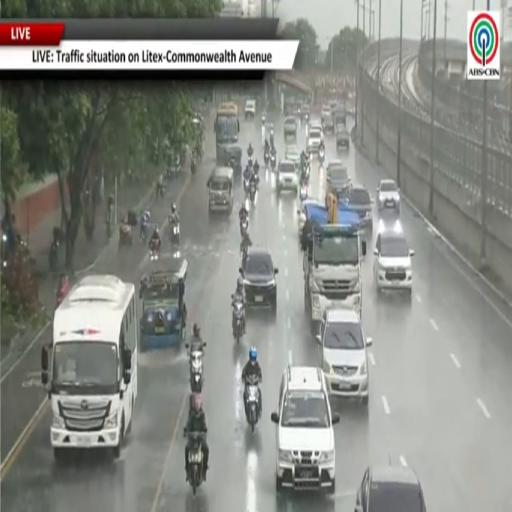bus: (42, 275, 138, 460)
car: (271, 366, 339, 493), (317, 308, 371, 405), (355, 466, 426, 511), (374, 222, 414, 295), (240, 247, 278, 311), (349, 185, 372, 229), (326, 159, 351, 198), (297, 199, 321, 236), (276, 160, 298, 194), (377, 180, 399, 213), (307, 128, 322, 153), (285, 144, 300, 168), (336, 124, 349, 150), (307, 121, 323, 140), (284, 117, 297, 139), (333, 105, 346, 125), (245, 100, 255, 120), (323, 116, 334, 134), (321, 105, 332, 123), (301, 104, 310, 120)
jeepney: (140, 254, 187, 350), (208, 167, 233, 213)
motorcycle: (185, 430, 206, 494), (245, 376, 260, 431), (190, 350, 203, 393), (233, 300, 244, 343), (119, 222, 133, 248), (168, 155, 181, 178), (49, 240, 58, 271), (170, 218, 179, 244), (149, 242, 160, 261), (240, 243, 247, 266), (240, 218, 248, 237), (141, 223, 148, 244), (300, 183, 308, 201), (249, 182, 256, 202), (318, 146, 325, 164), (156, 184, 165, 198), (230, 157, 239, 171), (106, 217, 111, 239), (270, 154, 276, 171), (191, 159, 196, 175), (244, 178, 249, 194), (264, 152, 269, 167), (248, 156, 253, 168), (305, 114, 309, 122)
truck: (304, 204, 366, 333), (215, 102, 242, 174)
